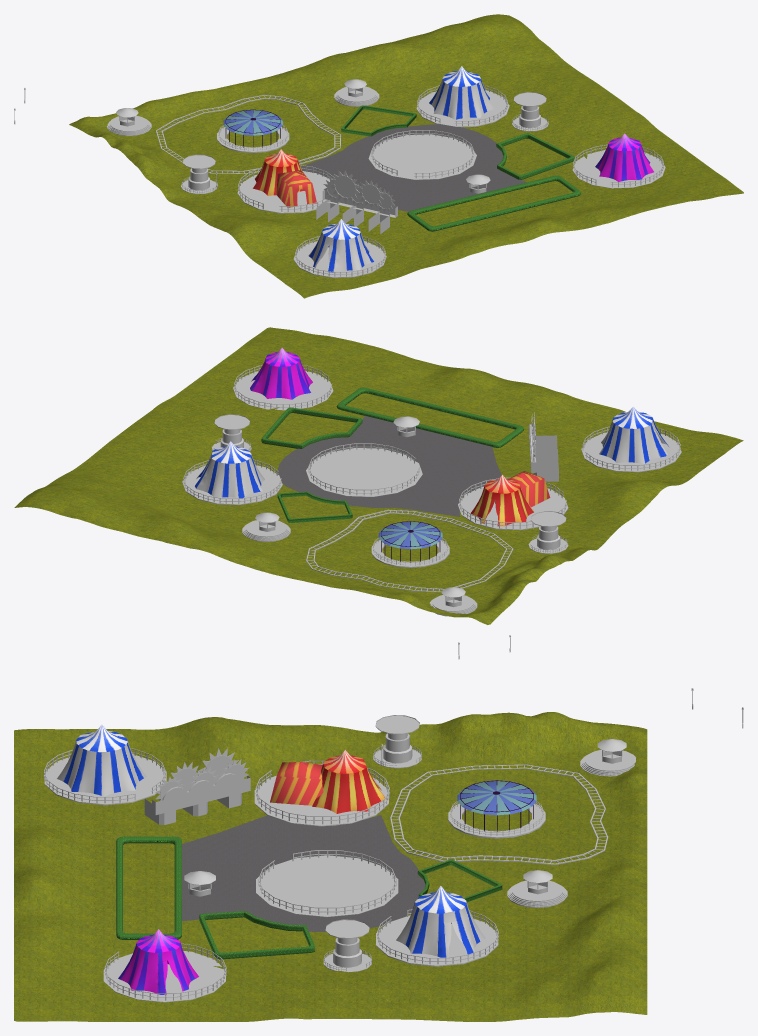
The model's file is StaticObjects02.FBX.
3 renders of one model, top to bottom at view 1: azimuth 30°, elevation 25°; view 2: azimuth 150°, elevation 25°; view 3: azimuth 270°, elevation 25°, orthographic. The views are drawn at different scales.
Parts seen in each view (by area): view 1: Cylinder007; view 2: Cylinder007; view 3: Cylinder007.
Boxes of the visible parts, <box> form: Cylinder007: <box>14,14,743,298</box>; Cylinder007: <box>14,327,743,659</box>; Cylinder007: <box>14,688,743,1021</box>.
Size of the model in its own units: 11946 by 1172 by 11784.
